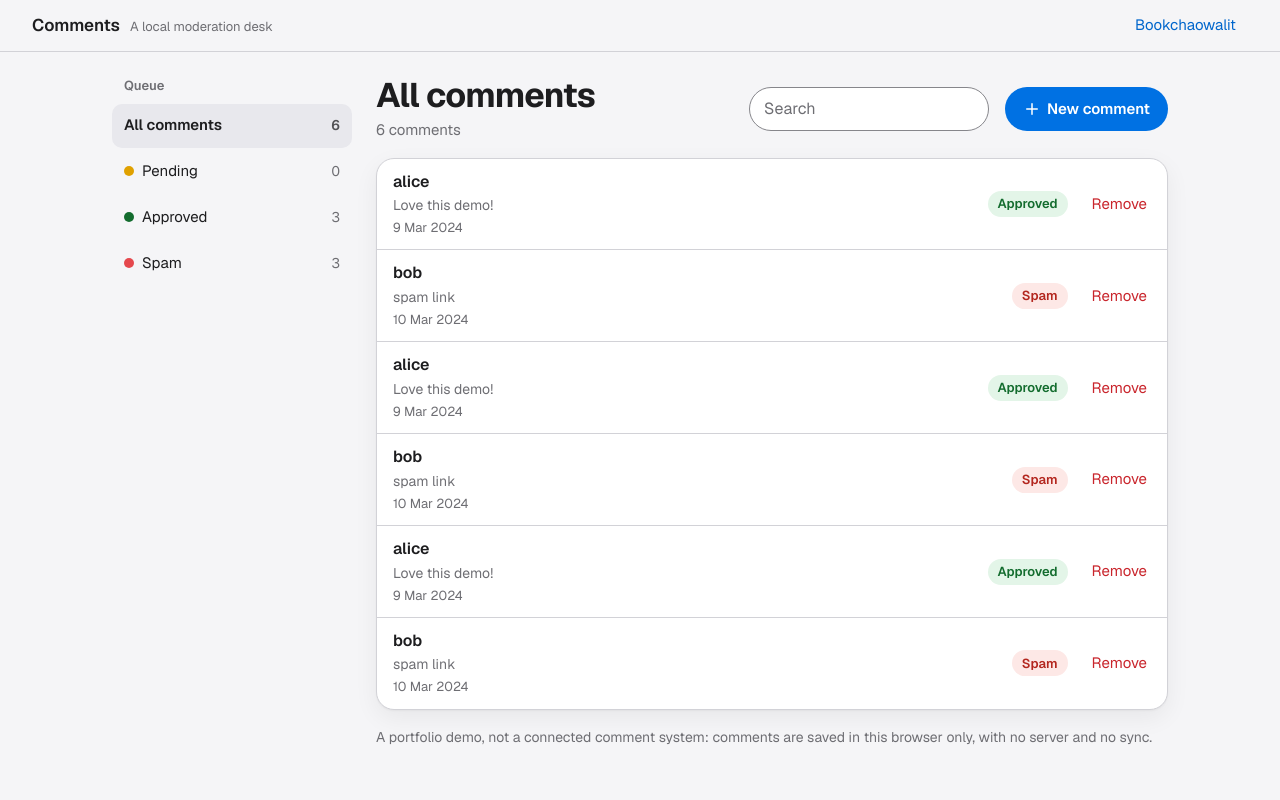
it: batch Undo › consecutive removes restore together with one Undo
Click the 2nd button with class "as-danger" at x=1119, y=296, box [1080,274,1159,318]
Wait 4000 ms
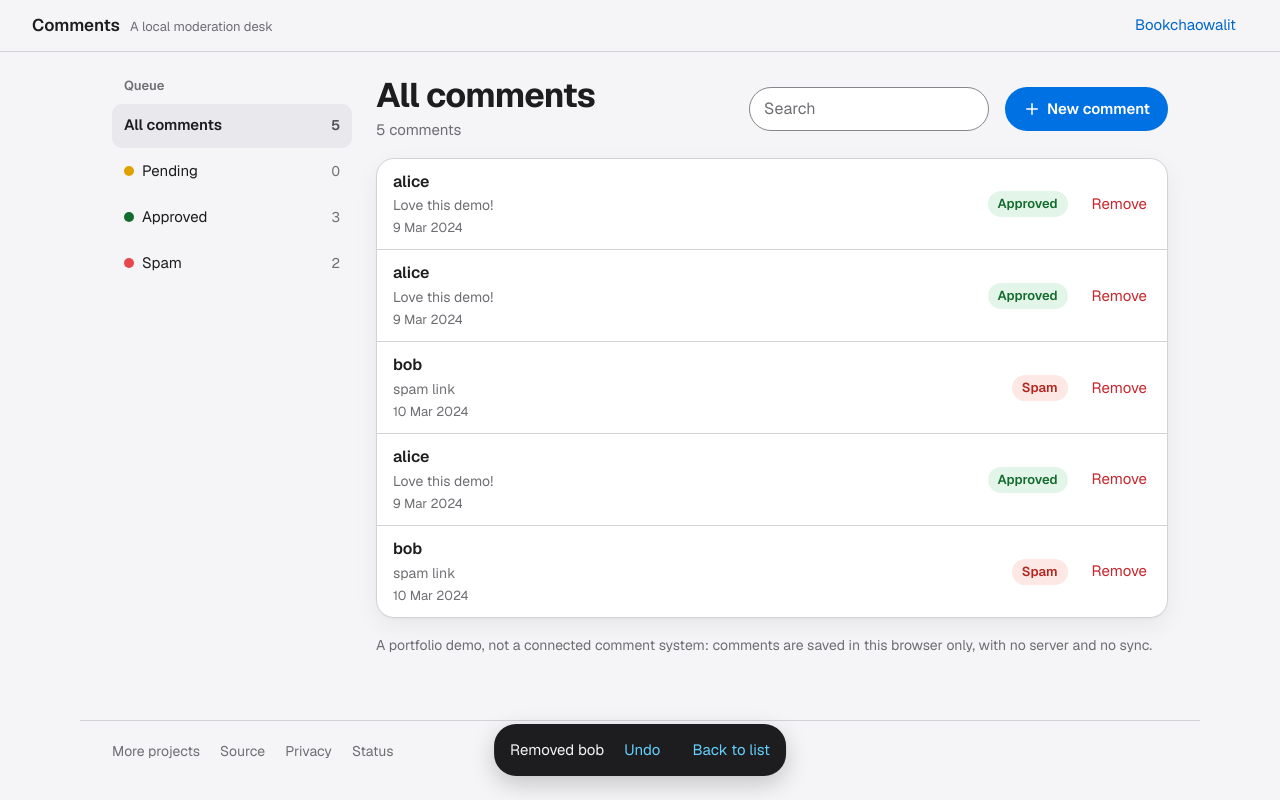
Click the 1st button with class "as-danger" at x=1119, y=204, box [1080,182,1159,226]
Wait 4000 ms
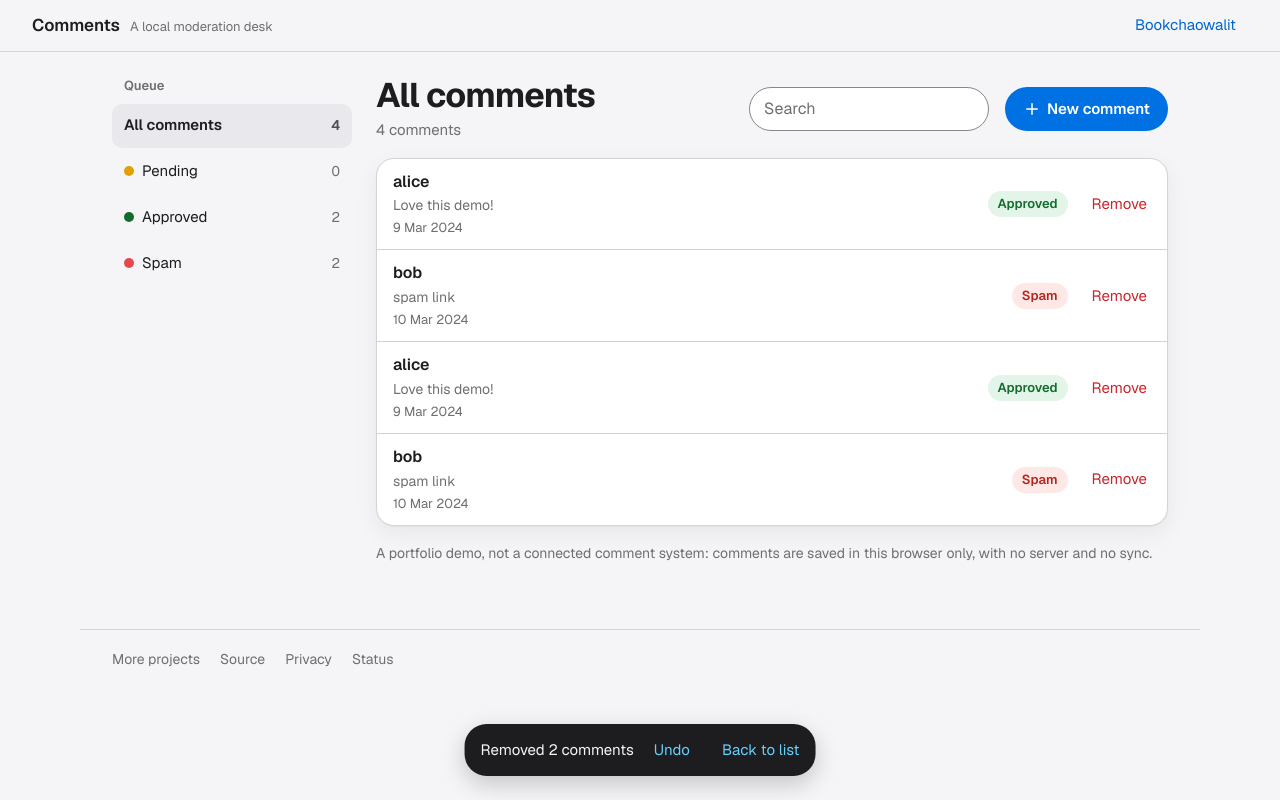
Expected: the text "Removed 2 comments" is shown, [481,739,634,761]
Click the button "Undo" at x=672, y=750, box [642,728,702,772]
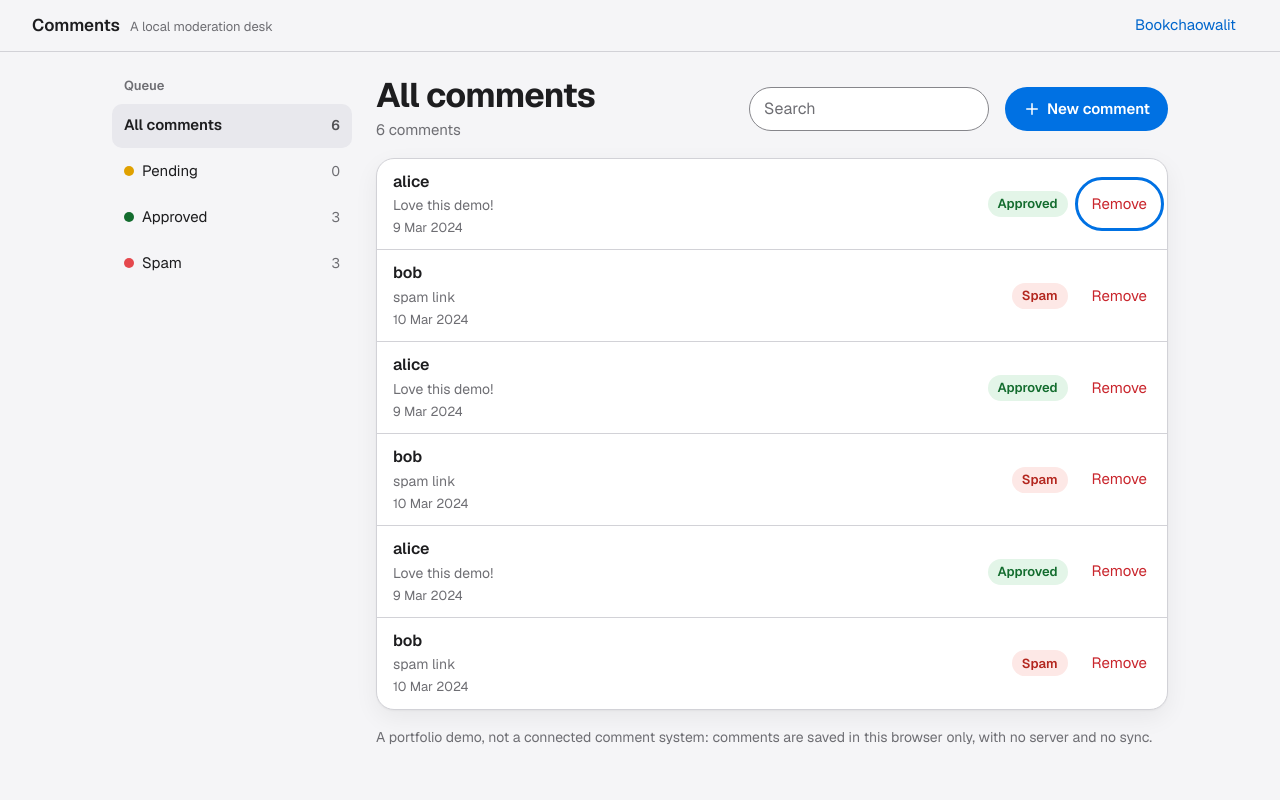
Expected: the element with class "as-toast" is gone
